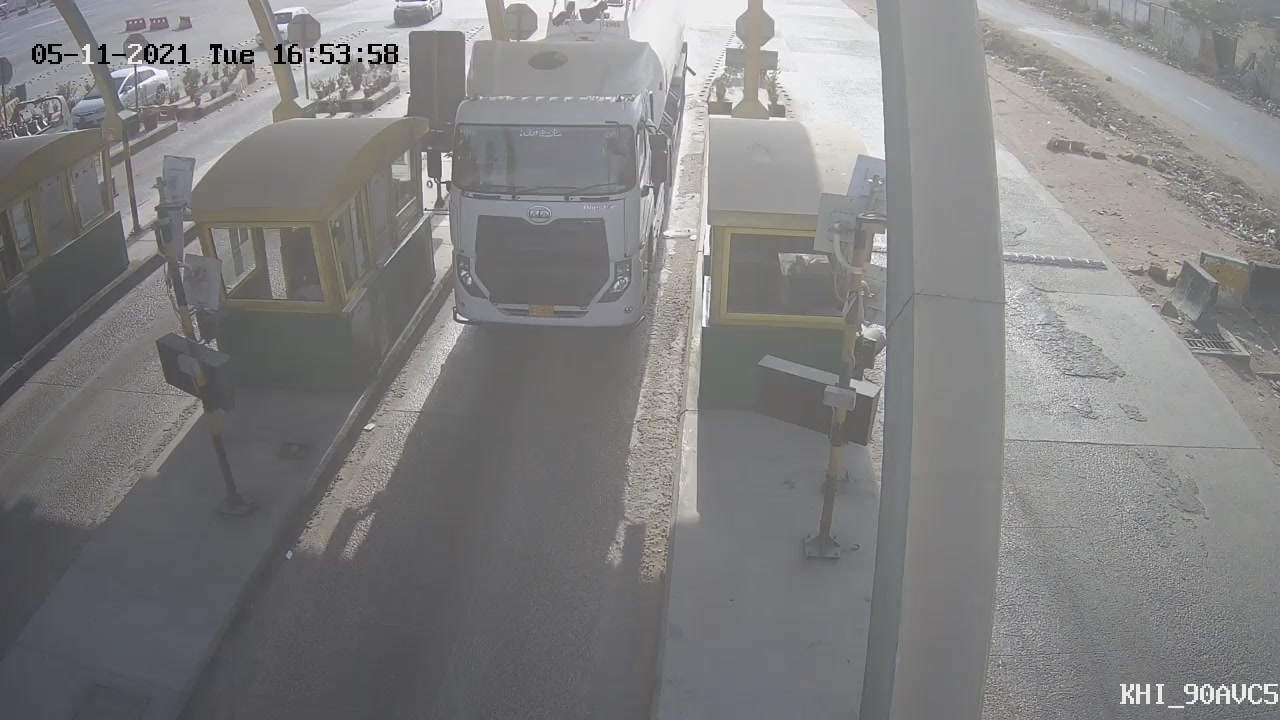F6: (411, 4, 703, 359)
